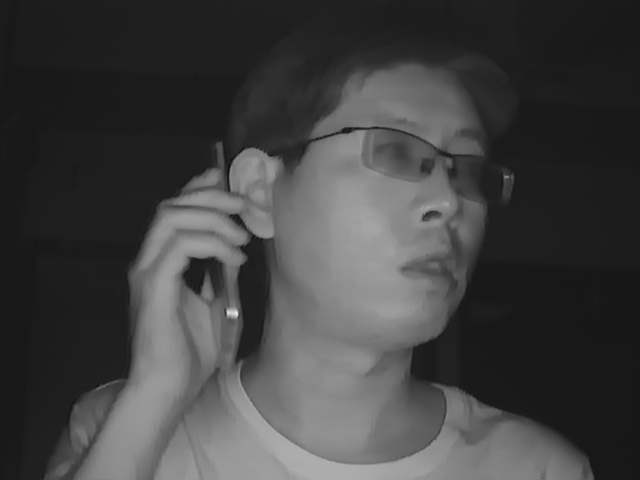hand: (118, 167, 252, 379)
